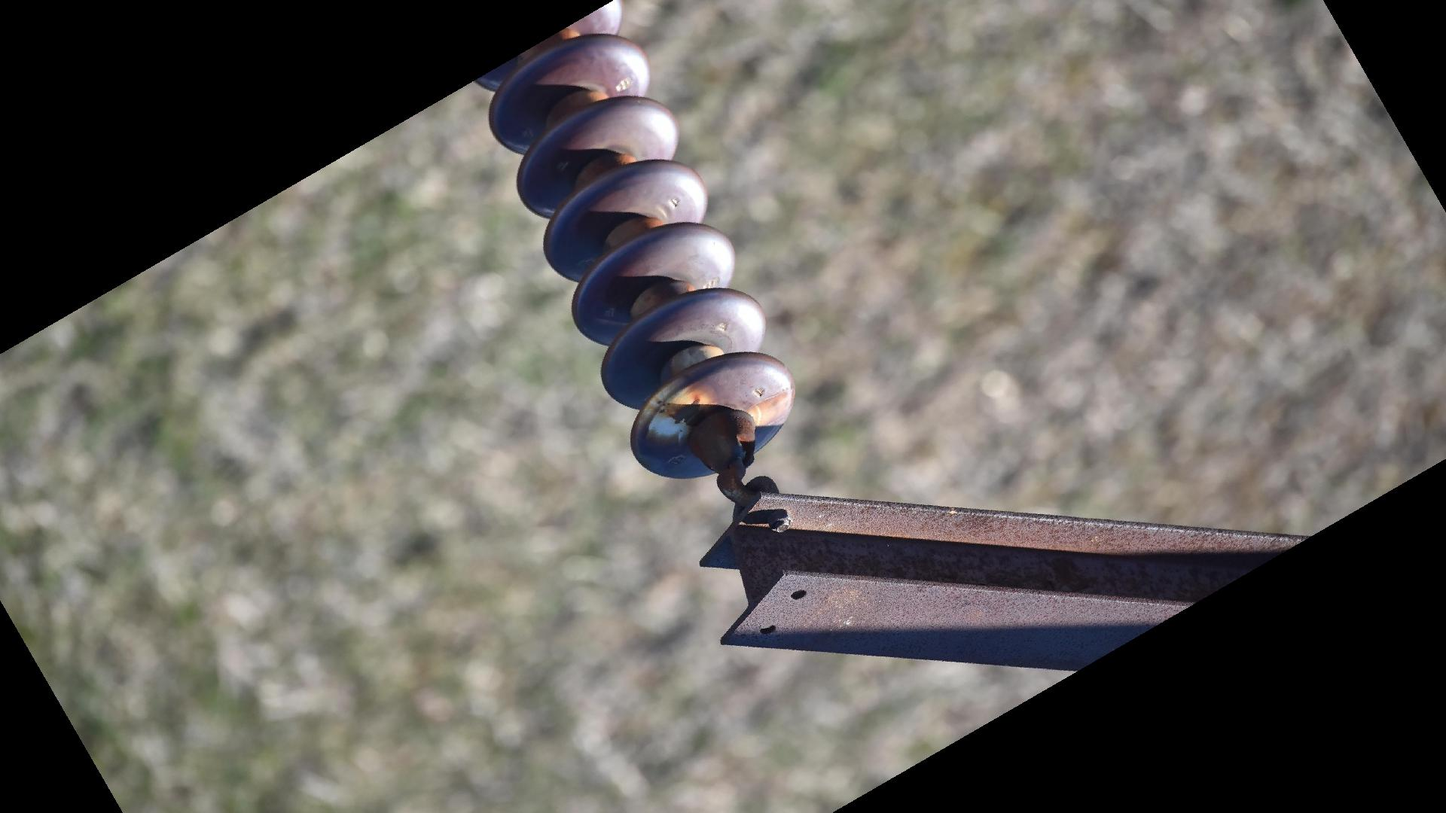insulator: (460, 1, 806, 483)
insulator_flashover: (636, 379, 717, 444), (746, 388, 795, 428)
